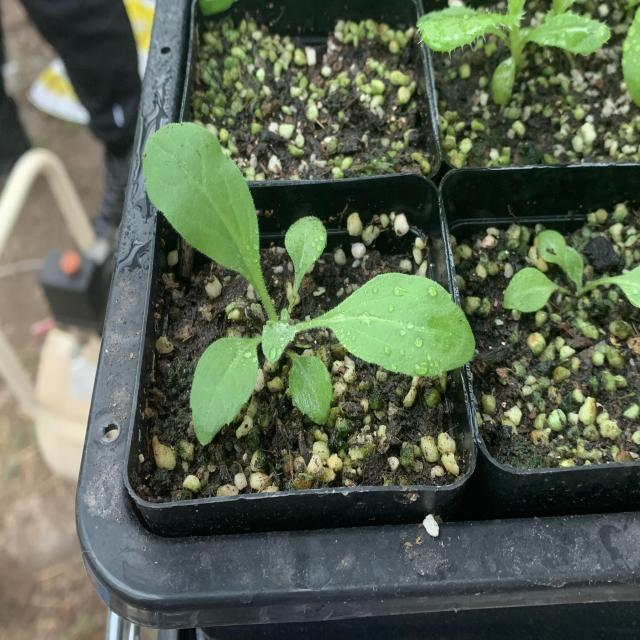field_thistle: (430, 0, 603, 111)
